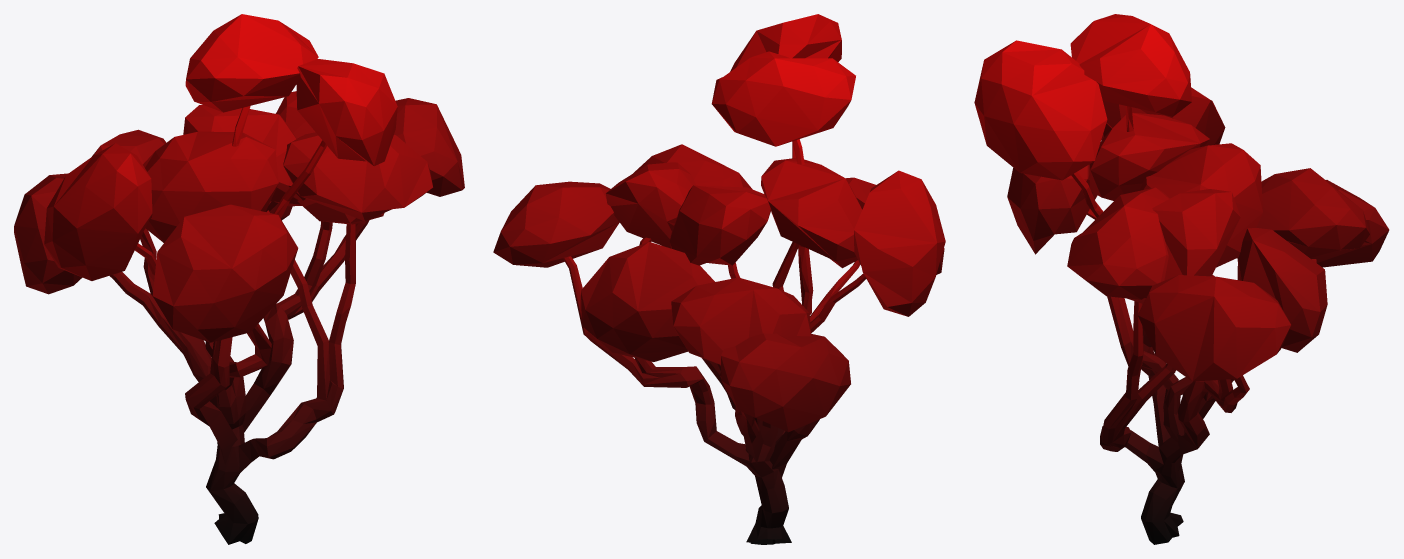
File: TreeHiatus01.fbx
The picture shows the model from 3 angles, left to right: view 1: azimuth 30°, elevation 25°; view 2: azimuth 150°, elevation 25°; view 3: azimuth 270°, elevation 25°; orthographic projection. The views are drawn at different scales.
Visible parts, largest first — view 1: TreeHiatus01_LOD0; view 2: TreeHiatus01_LOD0; view 3: TreeHiatus01_LOD0.
Part boxes in pixels (x1,y1,x2,y2): TreeHiatus01_LOD0: (14,14,464,544); TreeHiatus01_LOD0: (493,14,945,544); TreeHiatus01_LOD0: (974,14,1389,544).
Size of what is drawn, in the model's own units: 1367 by 1598 by 1167.
